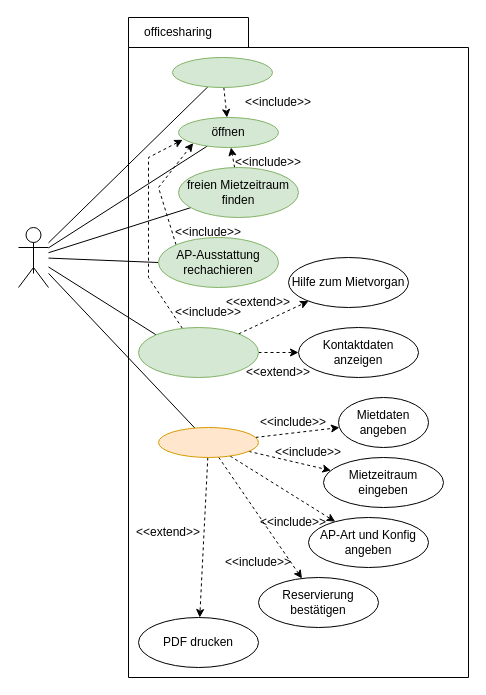
The diagram is 486 pixels wide and 695 high, and some of its shapes have lost their labels. Here are the shapes that lost their labels. From the top down, the centre of each, then its label:
At (x=222, y=72): "schließen".
At (x=33, y=257): "Mieter".
At (x=198, y=352): "Support aufrufen".
At (x=208, y=442): "AP buchen".
